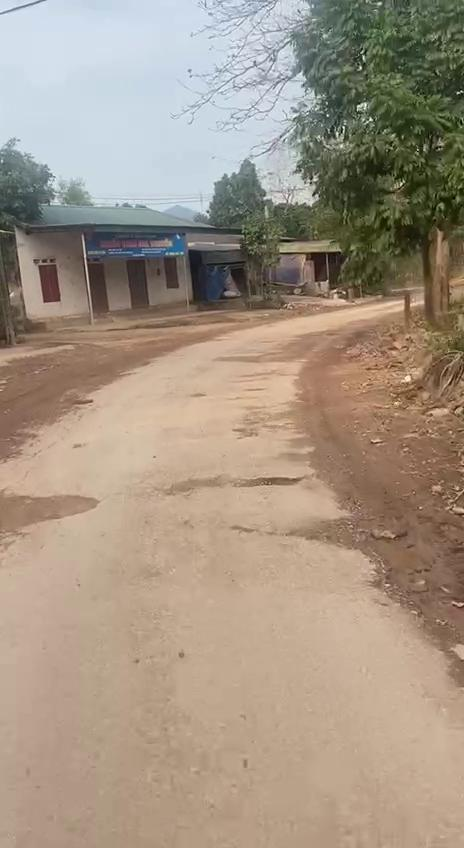pothole: (316, 511, 464, 625), (0, 488, 106, 534), (170, 471, 306, 496)
